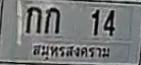1: (91, 9, 99, 35)
4: (103, 9, 114, 35)
A01: (25, 6, 41, 33), (44, 7, 59, 33)
SKM: (29, 42, 113, 63)
